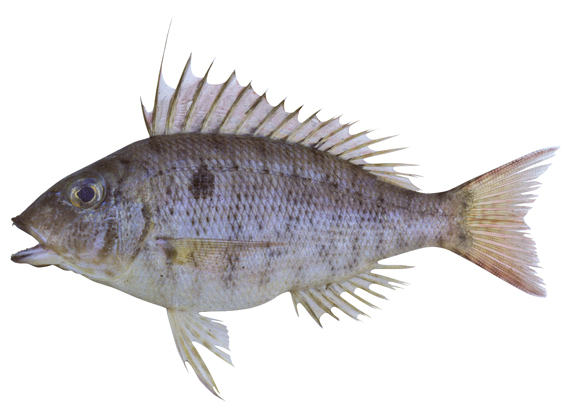fish: (11, 18, 562, 401)
